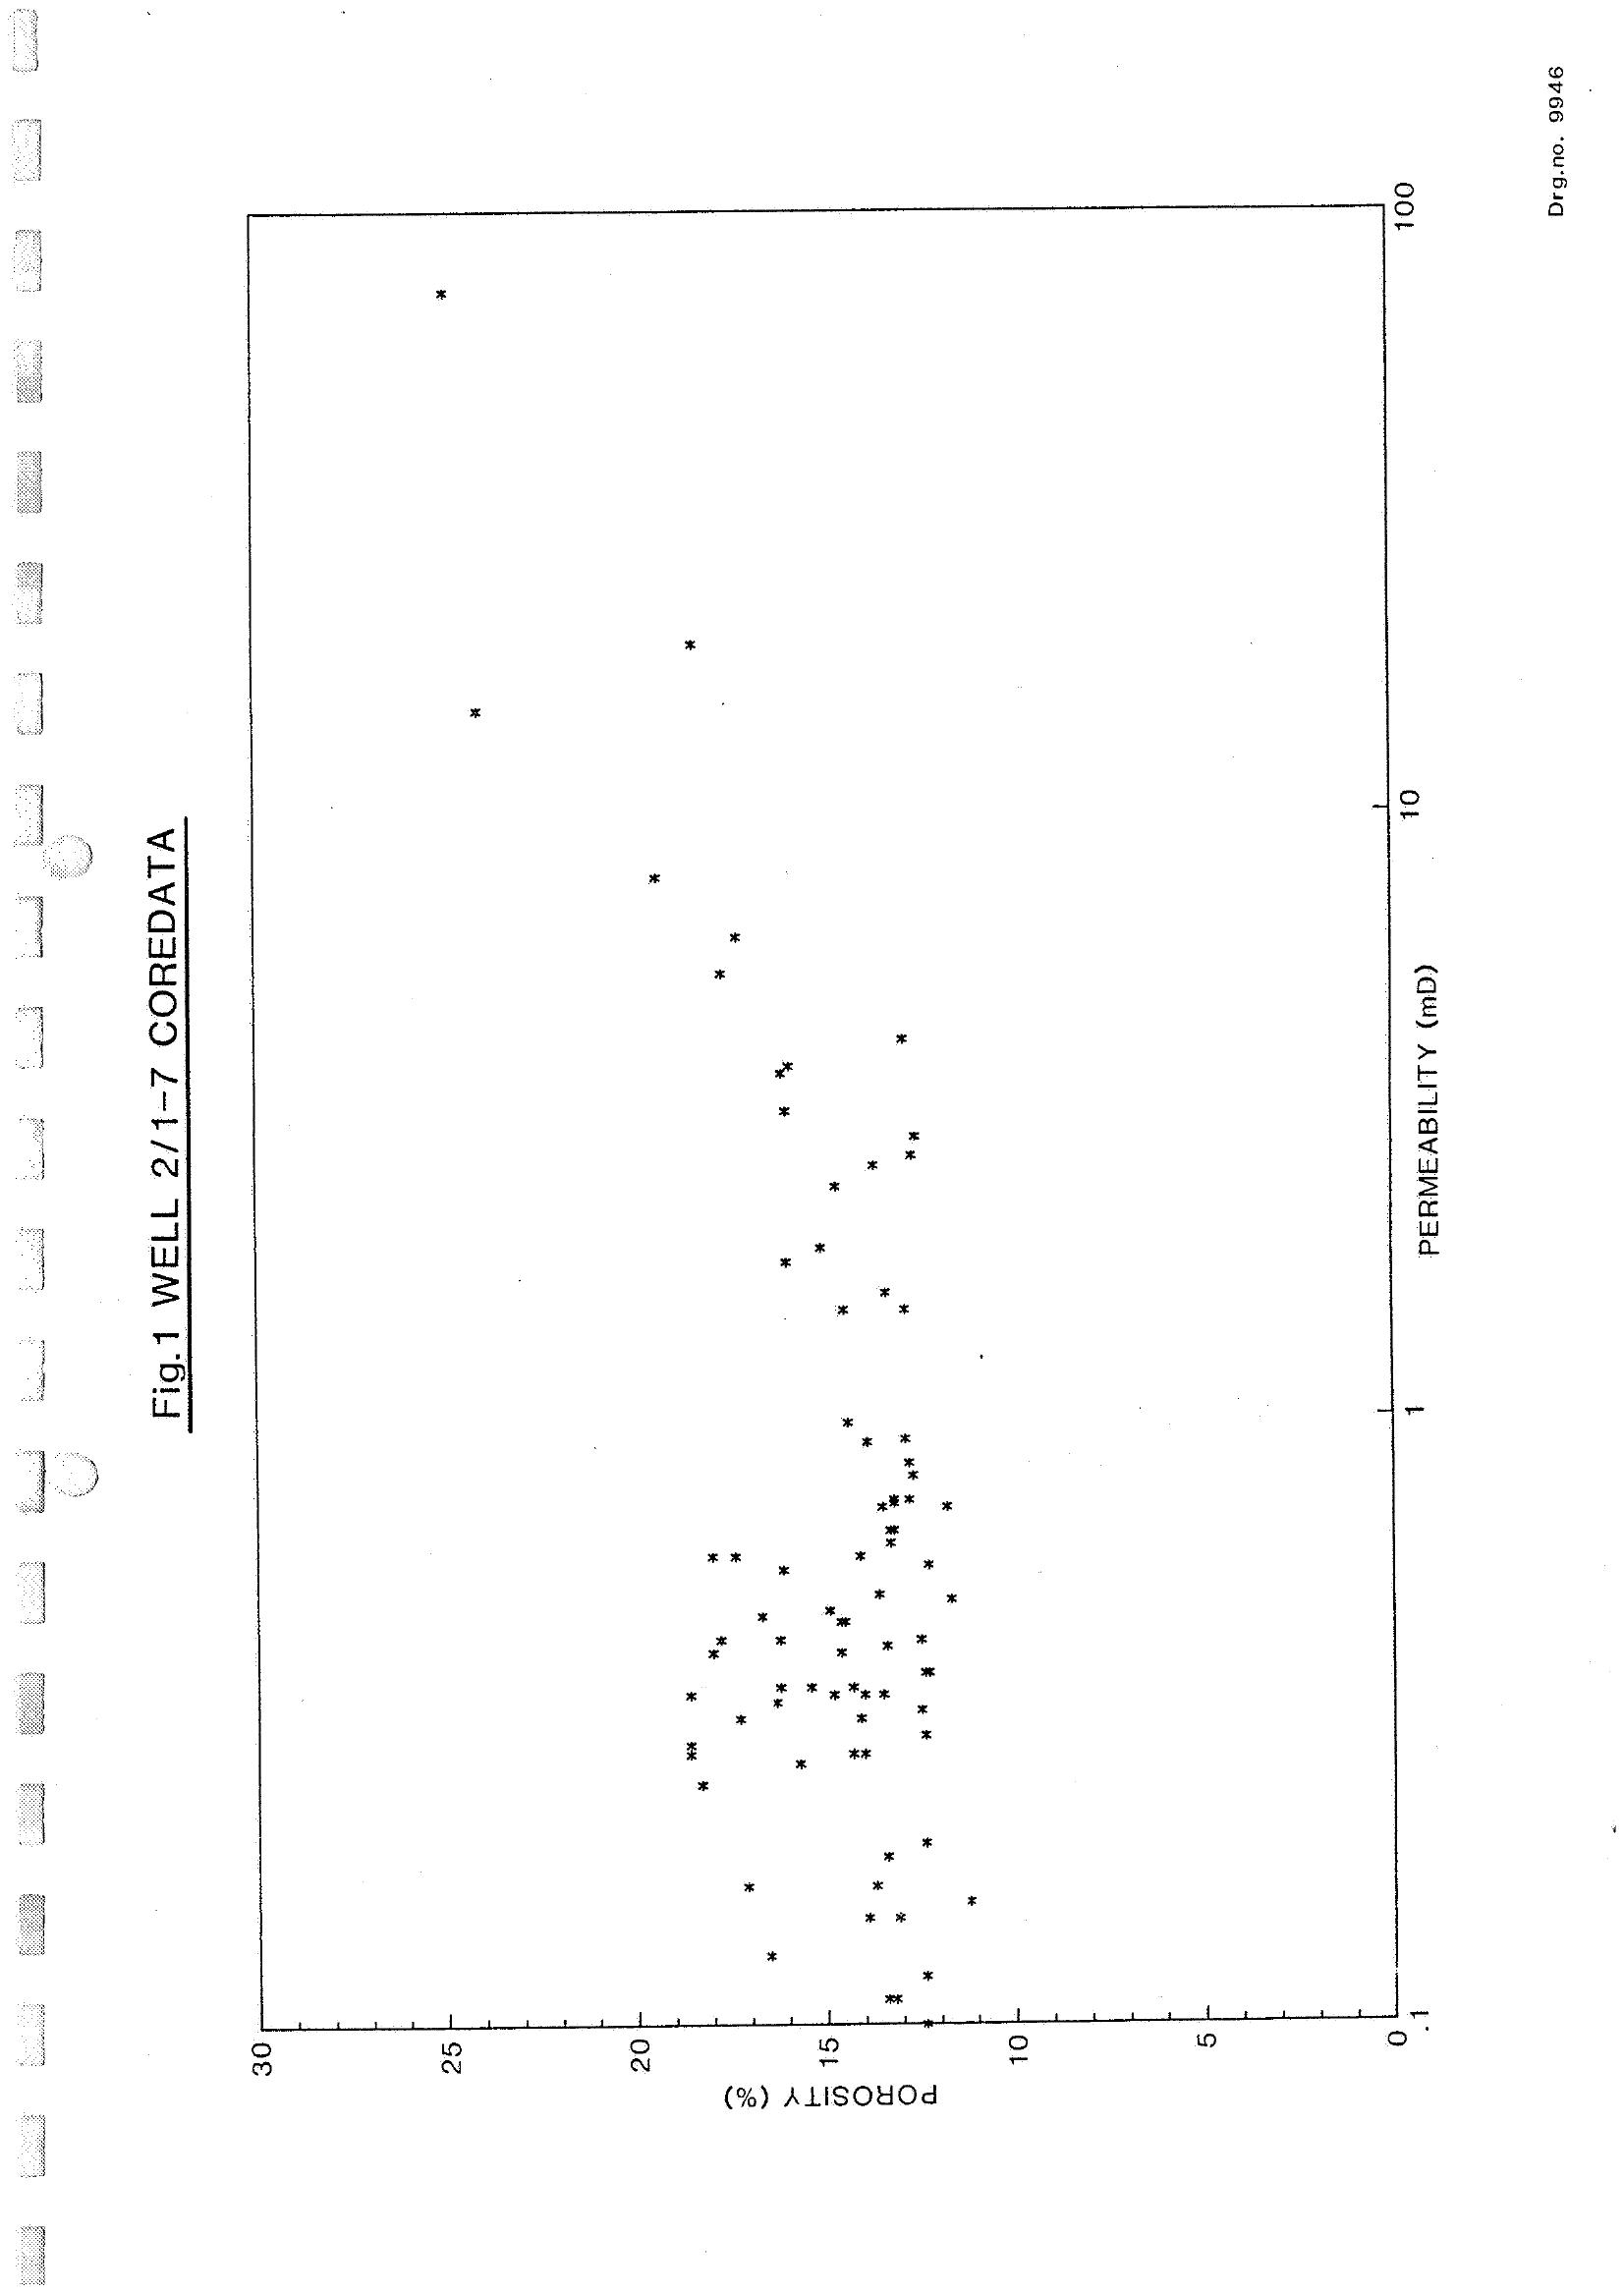graph: (137, 148, 1497, 2137)
